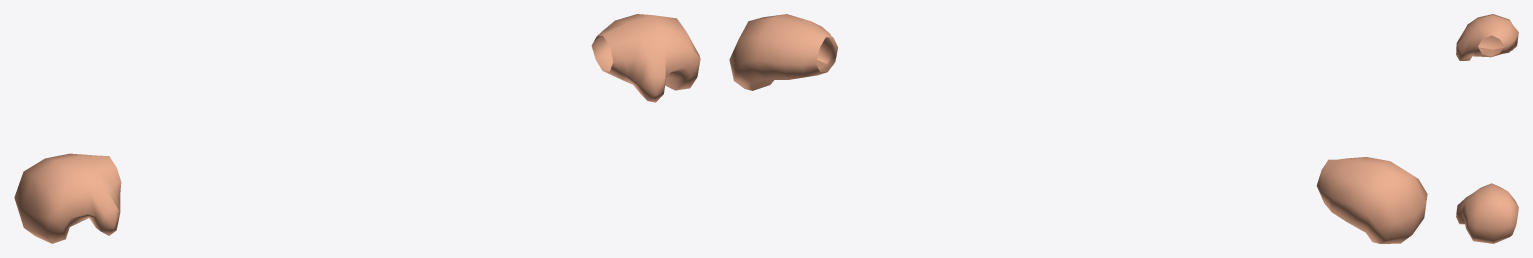
Rendered from Body_Yellow_Hand.fbx.
3 renders of one model, left to right at view 1: azimuth 30°, elevation 25°; view 2: azimuth 150°, elevation 25°; view 3: azimuth 270°, elevation 25°, orthographic. The views are drawn at different scales.
Visible parts, largest first — view 1: Body_Yellow_Hand; view 2: Body_Yellow_Hand; view 3: Body_Yellow_Hand.
Boxes of the visible parts, x1=… form: Body_Yellow_Hand: x1=14, y1=14, x2=700, y2=243; Body_Yellow_Hand: x1=729, y1=14, x2=1427, y2=243; Body_Yellow_Hand: x1=1456, y1=14, x2=1518, y2=243.
Bounding box in the file's own units: 130 × 13.15 × 17.22.
